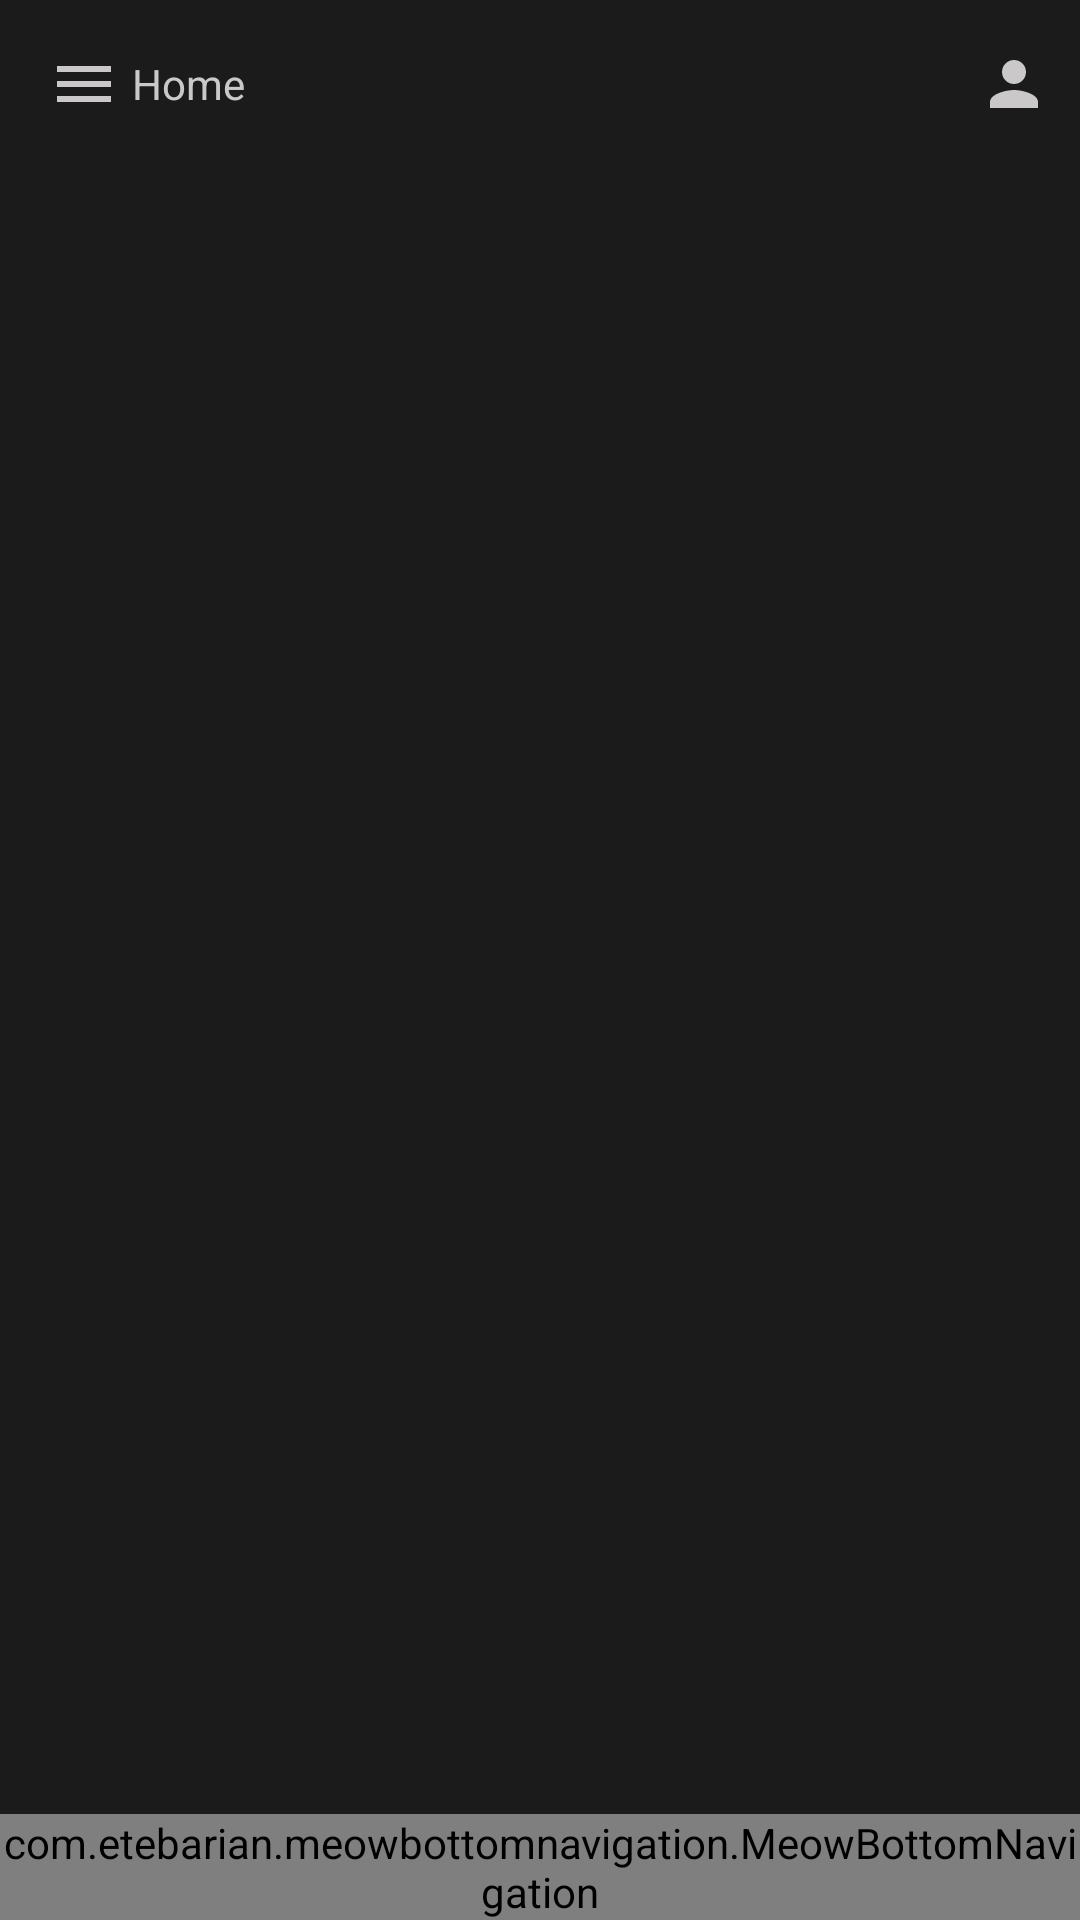

Point at icon controls on the screen. Image size 1080px x 1920px, points as (x,y).
menu: (84,84)
user: (1014,84)
